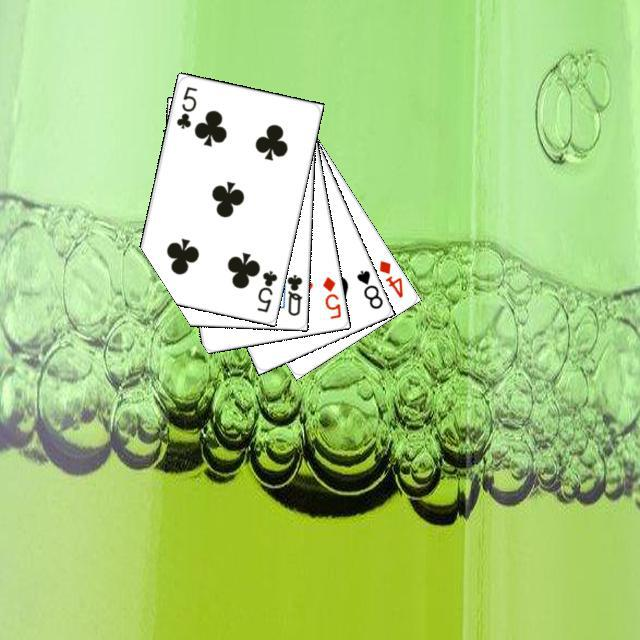4d: (374, 255, 405, 300)
5c: (171, 81, 199, 130), (252, 265, 279, 314)
5d: (318, 272, 343, 321)
8s: (352, 265, 385, 311)
Qc: (276, 265, 303, 318)
